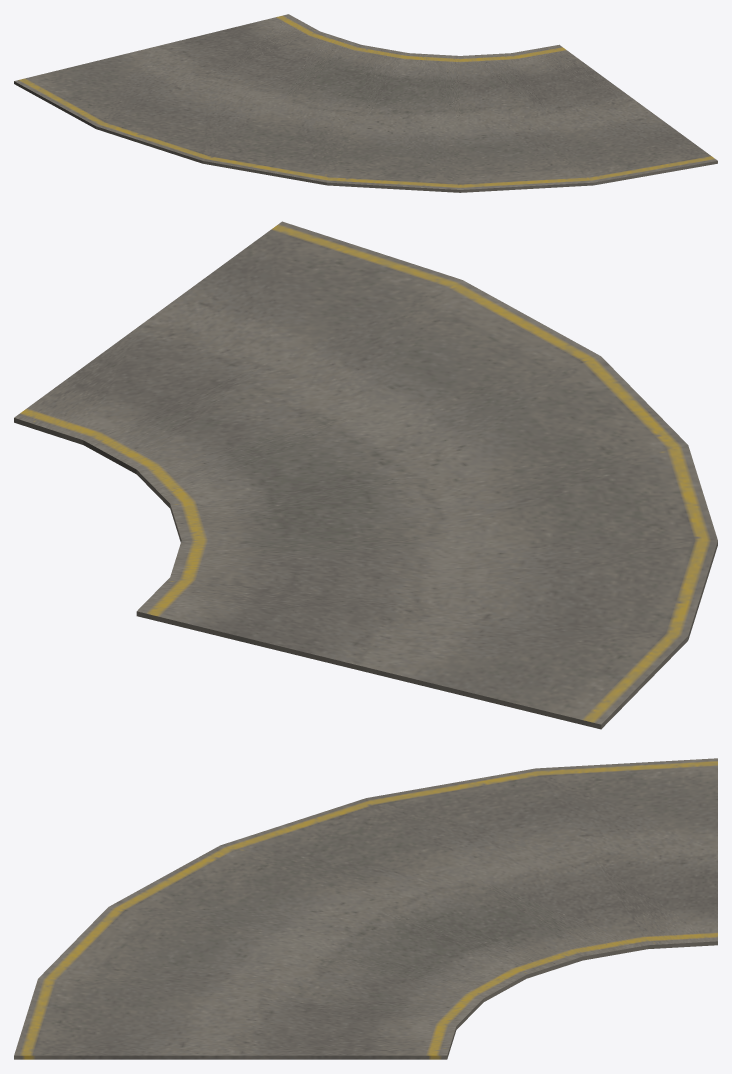
Rendered from Urban_Road2LongCornerNoSides_Model.fbx.
3 views of the same model, one above another, from view 1: azimuth 30°, elevation 25°; view 2: azimuth 150°, elevation 25°; view 3: azimuth 270°, elevation 25° (orthographic). The views are drawn at different scales.
Parts seen in each view (by area): view 1: Urban_Road2LongCornerNoSides_Mesh; view 2: Urban_Road2LongCornerNoSides_Mesh; view 3: Urban_Road2LongCornerNoSides_Mesh.
Boxes of the visible parts, <box> form: Urban_Road2LongCornerNoSides_Mesh: <box>14,14,717,192</box>; Urban_Road2LongCornerNoSides_Mesh: <box>14,221,717,729</box>; Urban_Road2LongCornerNoSides_Mesh: <box>14,758,717,1059</box>.
Size of the model in its own units: 26 by 0.16 by 26.
